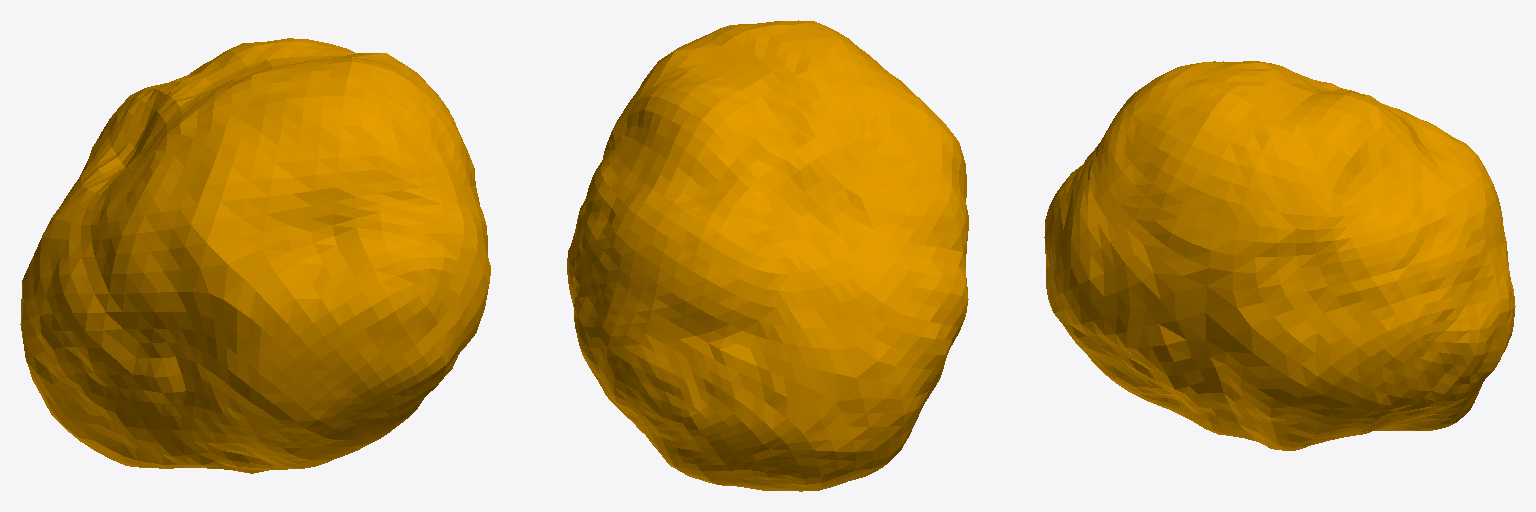
The robot description file, URDF, robot "rock":
<?xml version="1.0" ?>
<robot name="rock">
  <link name="rock">
    <inertial>
      <mass value="0.243"/>
      <origin rpy="0 0 0" xyz="0 0 0"/>
      <inertia ixx="0.000243" ixy="0" ixz="0" iyy="0.000243" iyz="0" izz="0.000243"/>
    </inertial>
    <collision name="rock_collision">
      <origin rpy="0 0 0" xyz="0 0 0"/>
      <geometry>
        <mesh filename="package://rocks/visual/79.dae" scale="1 1 1"/>
      </geometry>
    </collision>
    <visual name="rock_visual">
      <origin rpy="0 0 0" xyz="0 0 0"/>
      <geometry>
        <mesh filename="package://rocks/visual/79.dae" scale="1 1 1"/>
      </geometry>
    </visual>
  </link>
</robot>

--- Render facts (derived) ---
3 views of the same robot in one strip: view 1: azimuth 30°, elevation 25°; view 2: azimuth 150°, elevation 25°; view 3: azimuth 270°, elevation 25° (orthographic).
Robot: rock — 1 links, 0 joints (none); root link rock; default pose: every joint at zero.
Links seen in each view (by area): view 1: rock; view 2: rock; view 3: rock.
Link boxes in pixels (x1,y1,x2,y2): rock: [20, 38, 490, 473]; rock: [567, 20, 968, 491]; rock: [1044, 61, 1515, 450].
Size in the robot's own frame: 0.0848 by 0.0969 by 0.087 metres.
1 mesh visuals loaded from 1 distinct referenced files (1 Collada DAE).